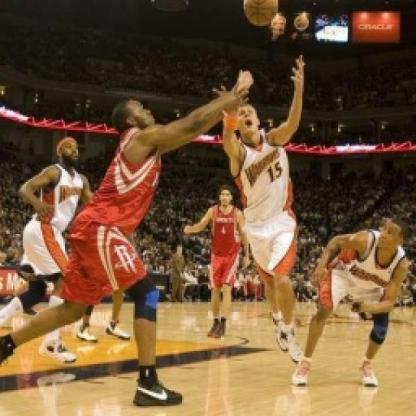basketball: (238, 0, 282, 27)
